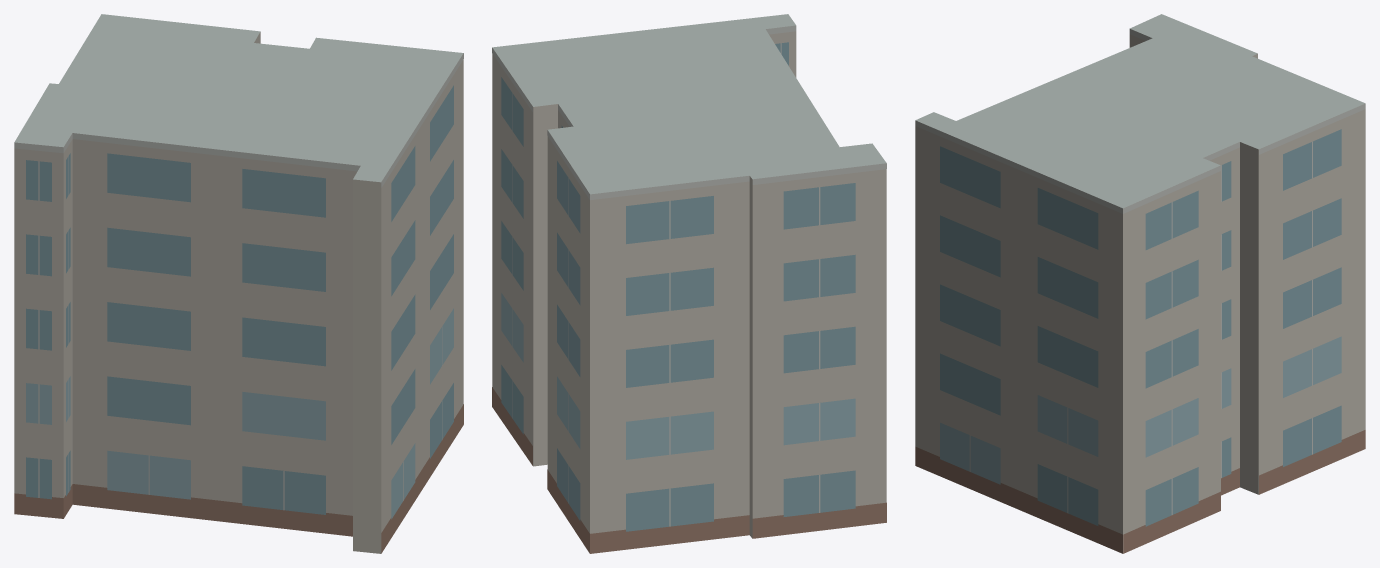
File: survey-upis-32597995.glb
3 renders of one model, left to right at view 1: azimuth 30°, elevation 25°; view 2: azimuth 150°, elevation 25°; view 3: azimuth 270°, elevation 25°, orthographic. The views are drawn at different scales.
Parts seen in each view (by area): view 1: survey-upis-32597995.tmp; view 2: survey-upis-32597995.tmp; view 3: survey-upis-32597995.tmp.
Part boxes in pixels (left/top/right/bottom): survey-upis-32597995.tmp: left=14, top=14, right=463, bottom=553; survey-upis-32597995.tmp: left=492, top=14, right=886, bottom=553; survey-upis-32597995.tmp: left=915, top=14, right=1365, bottom=553.
Size of the model in its own units: 18.16 by 15.04 by 17.78.
